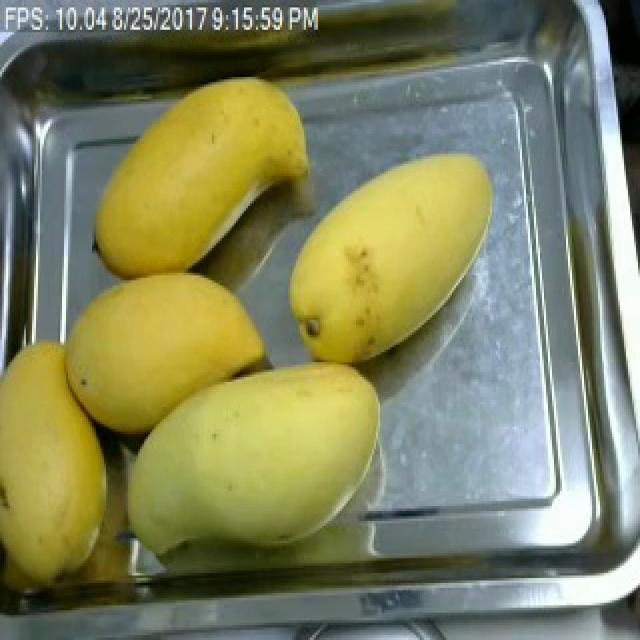fruit: (114, 350, 394, 570), (272, 141, 510, 377), (84, 70, 322, 280), (54, 263, 278, 449), (0, 337, 118, 603)
